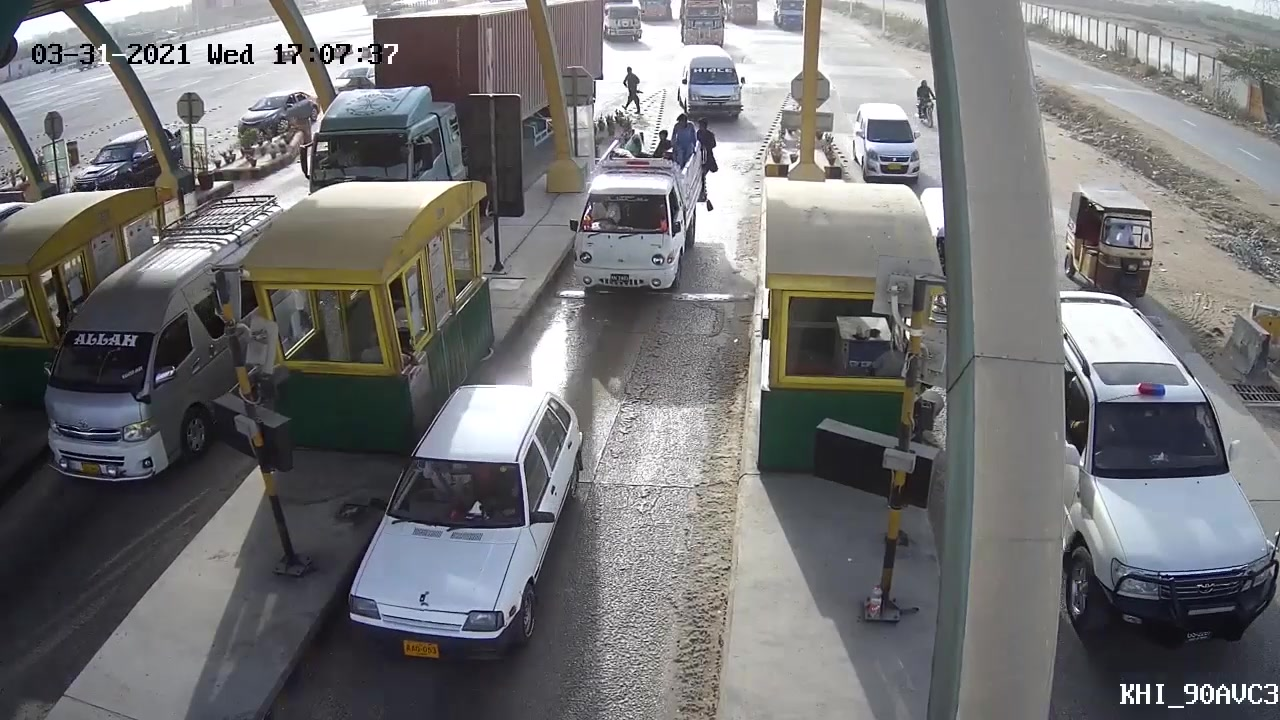F1: (340, 375, 587, 666)
F2: (557, 113, 713, 295)
